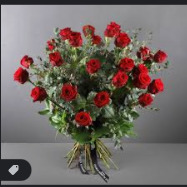RedRose: (13, 66, 32, 86), (132, 70, 152, 89), (61, 82, 78, 103), (29, 86, 48, 104), (73, 109, 92, 127), (92, 89, 111, 107), (136, 91, 152, 109), (107, 22, 122, 41), (113, 69, 126, 90), (149, 78, 165, 95), (17, 53, 33, 69), (57, 24, 73, 40), (47, 51, 63, 66), (136, 45, 151, 61), (117, 34, 134, 48), (68, 30, 82, 47), (155, 48, 170, 63), (118, 56, 132, 70), (87, 58, 100, 73), (85, 24, 96, 38), (91, 33, 102, 46)
